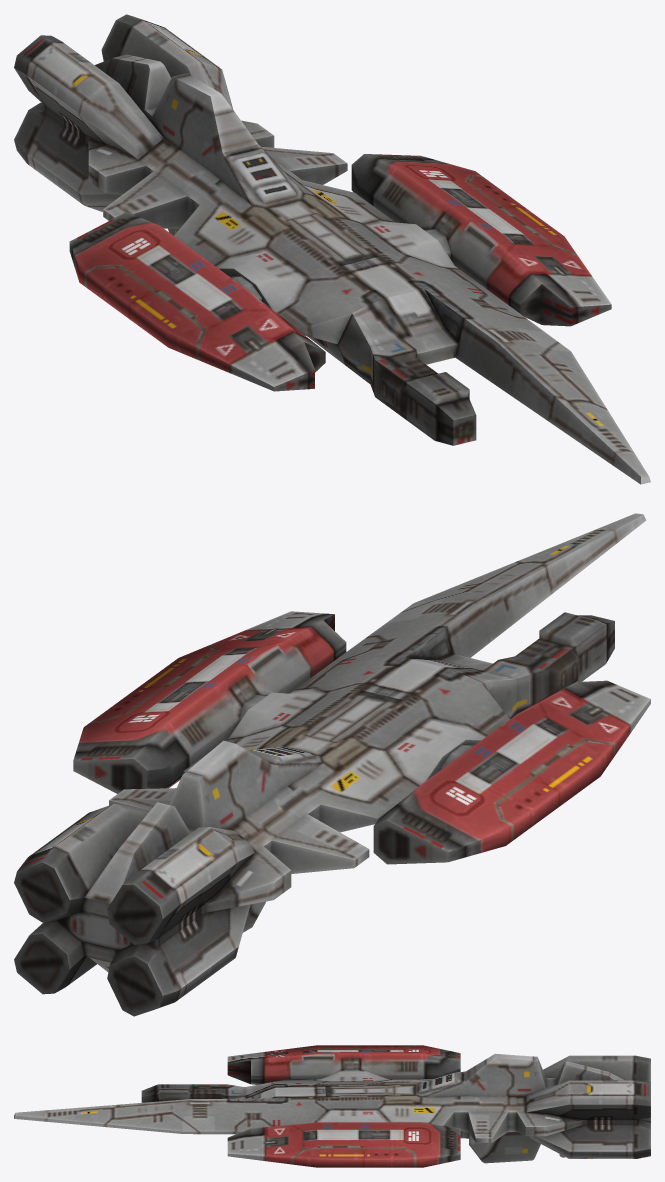
Rendered from vgr_sf_plbo_01_t1.glb.
3 renders of one model, top to bottom at view 1: azimuth 30°, elevation 25°; view 2: azimuth 150°, elevation 25°; view 3: azimuth 270°, elevation 25°, orthographic. The views are drawn at different scales.
Visible parts, largest first — view 1: vgr_plasma_bomber_01_LOD0; view 2: vgr_plasma_bomber_01_LOD0; view 3: vgr_plasma_bomber_01_LOD0.
Part boxes in pixels (x1,y1,x2,y2): vgr_plasma_bomber_01_LOD0: (14,14,650,484); vgr_plasma_bomber_01_LOD0: (14,513,650,1016); vgr_plasma_bomber_01_LOD0: (14,1045,650,1167).
Size of what is drawn, in the model's own units: 0.2252 by 0.0962 by 0.5322.
1 material, 1 textured.
